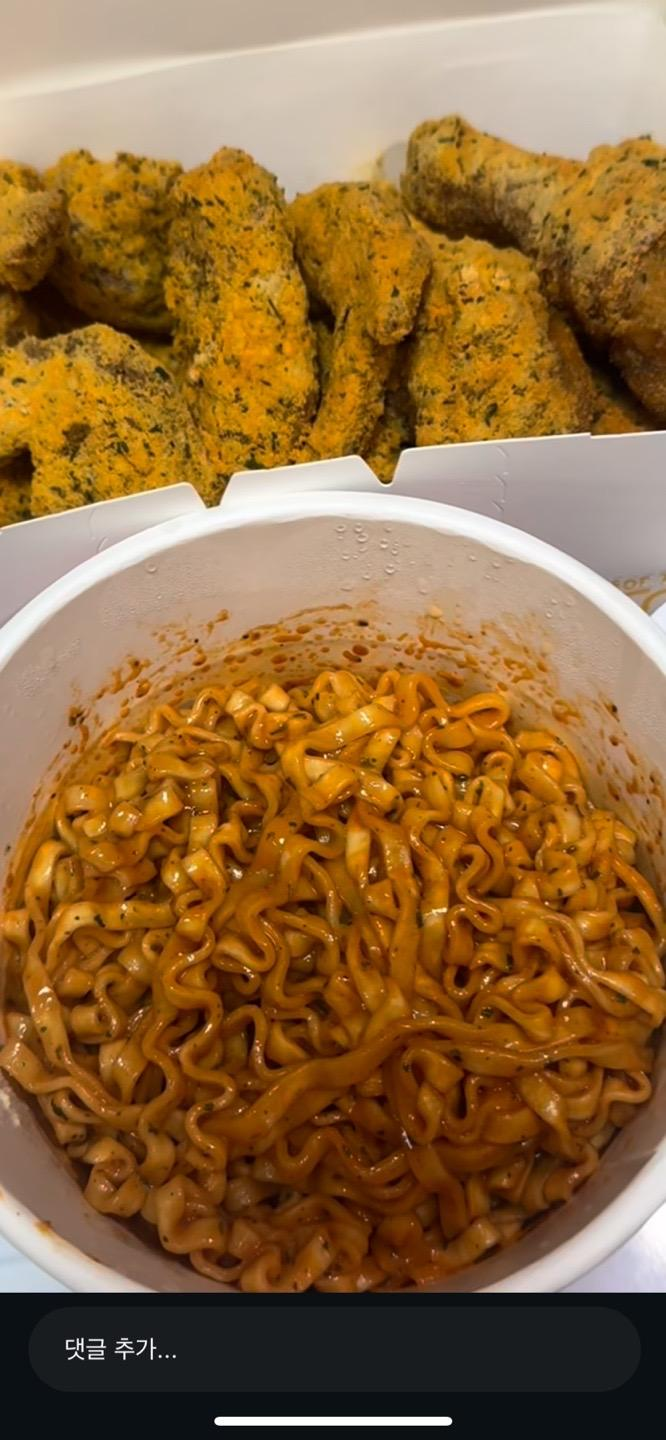Lunch Box: (0, 487, 665, 1293), (0, 9, 665, 616)
